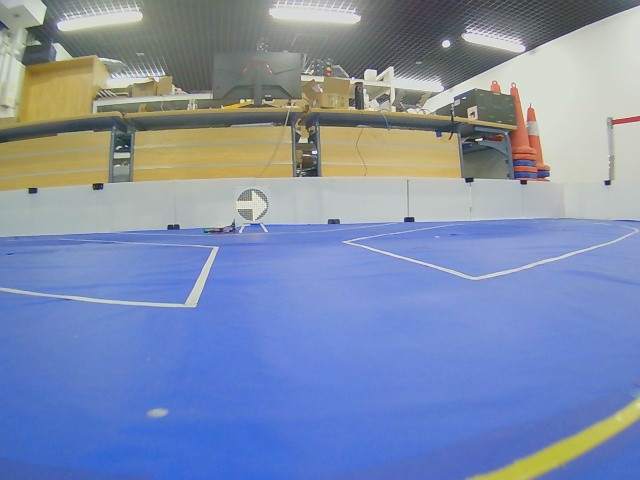right_yellow: (236, 188, 269, 222)
